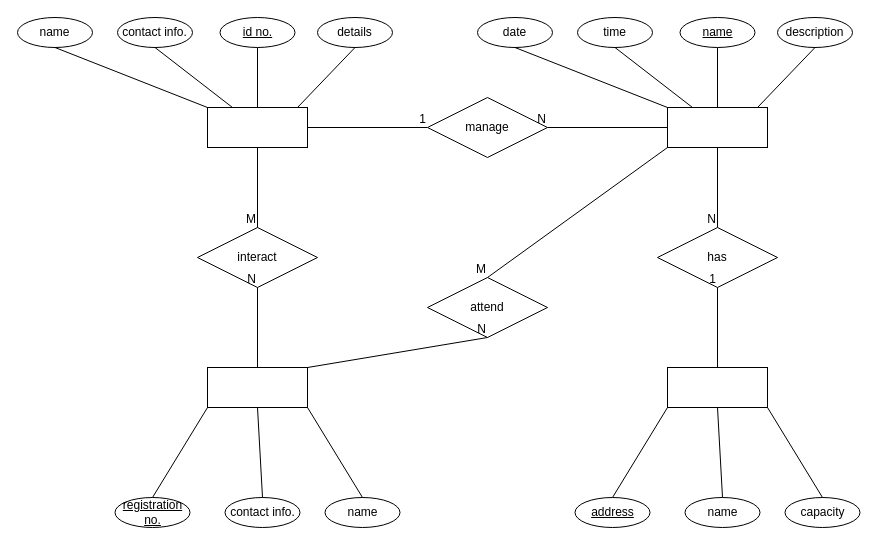
Image size: 878x545. Some labels were removed from this diagram. The box of each missing label's shape, as (x1, y1, x2, y2) in pixels:
Event: (666, 106, 768, 148)
Location: (666, 366, 768, 408)
Organizer: (206, 106, 308, 148)
Participant: (206, 366, 308, 408)
